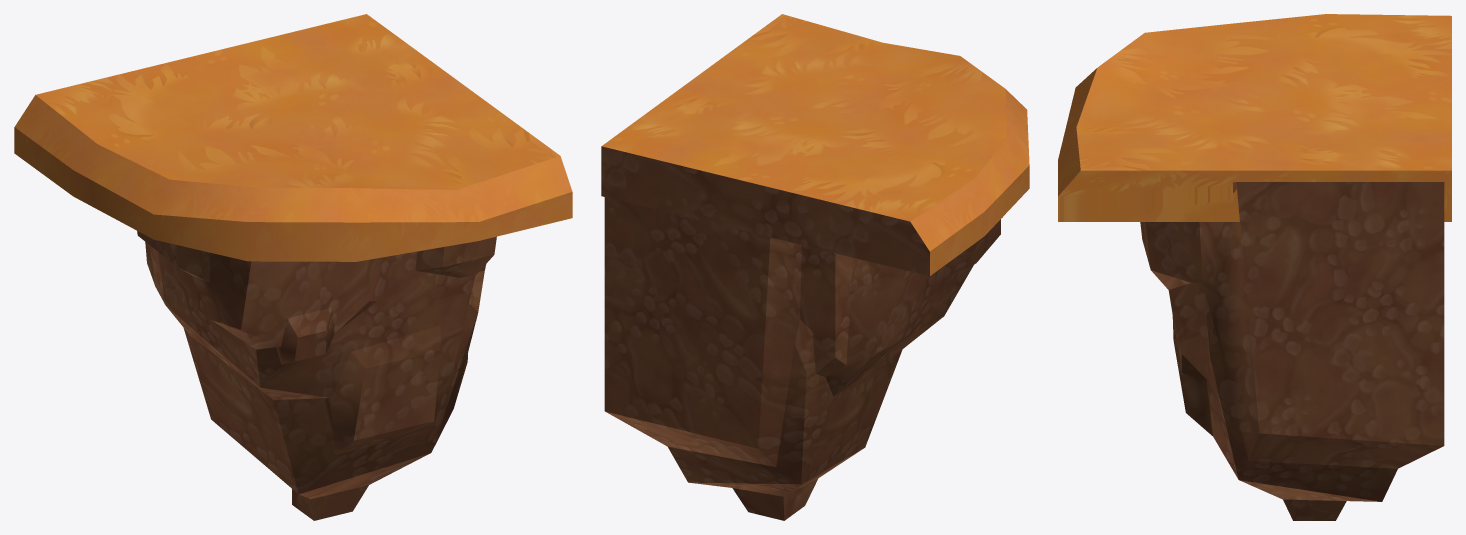
The model's file is Ground Corner.FBX.
3 renders of one model, left to right at view 1: azimuth 30°, elevation 25°; view 2: azimuth 150°, elevation 25°; view 3: azimuth 270°, elevation 25°, orthographic. The views are drawn at different scales.
Visible parts, largest first — view 1: Box033; view 2: Box033; view 3: Box033.
Boxes of the visible parts, box(x1,y1,x2,y2) form: Box033: box(14, 14, 572, 520); Box033: box(601, 14, 1029, 520); Box033: box(1058, 14, 1451, 520).
Size of the model in its own units: 39.03 by 44.82 by 39.43.
